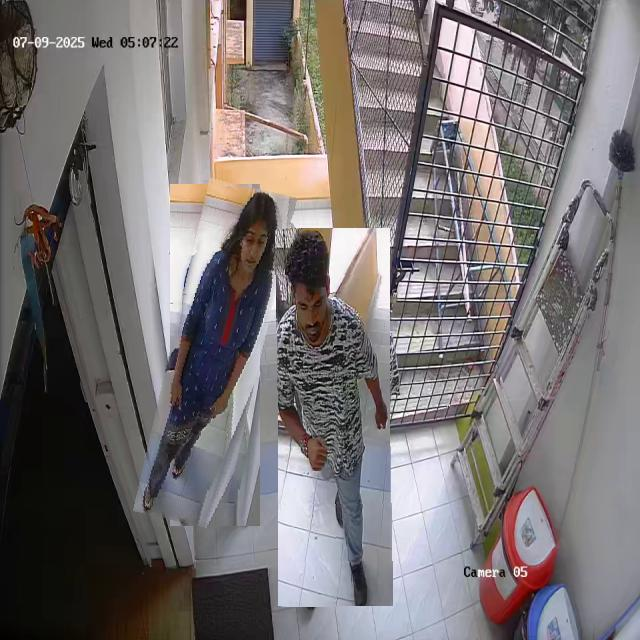person: (151, 181, 279, 529), (276, 228, 392, 607)
